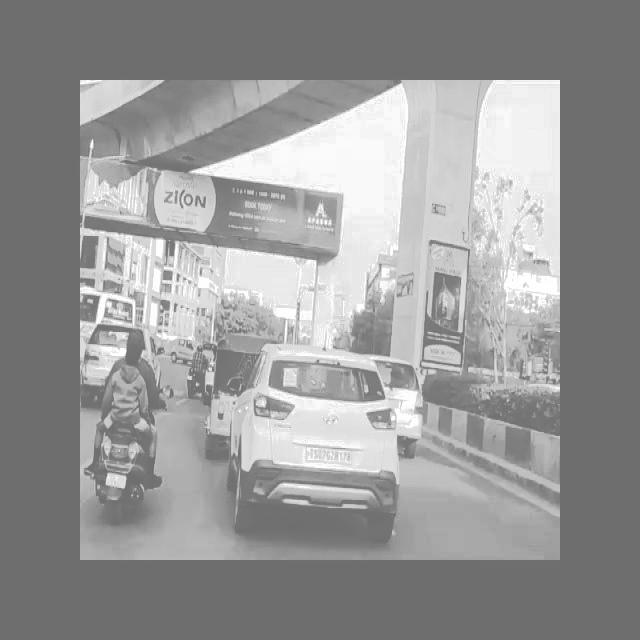Auto-Rickshaw: (200, 327, 250, 460)
Bike: (90, 337, 162, 528)
Car: (227, 338, 397, 550), (86, 311, 149, 399), (386, 345, 426, 459)
